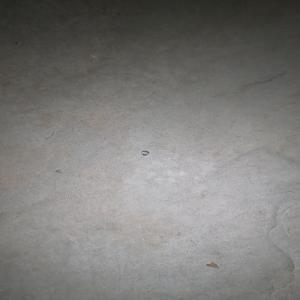Nut: (140, 150, 149, 156)
